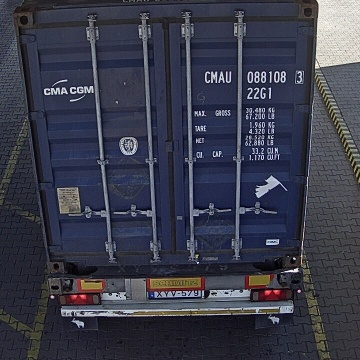serial_id: (205, 70, 304, 83)
